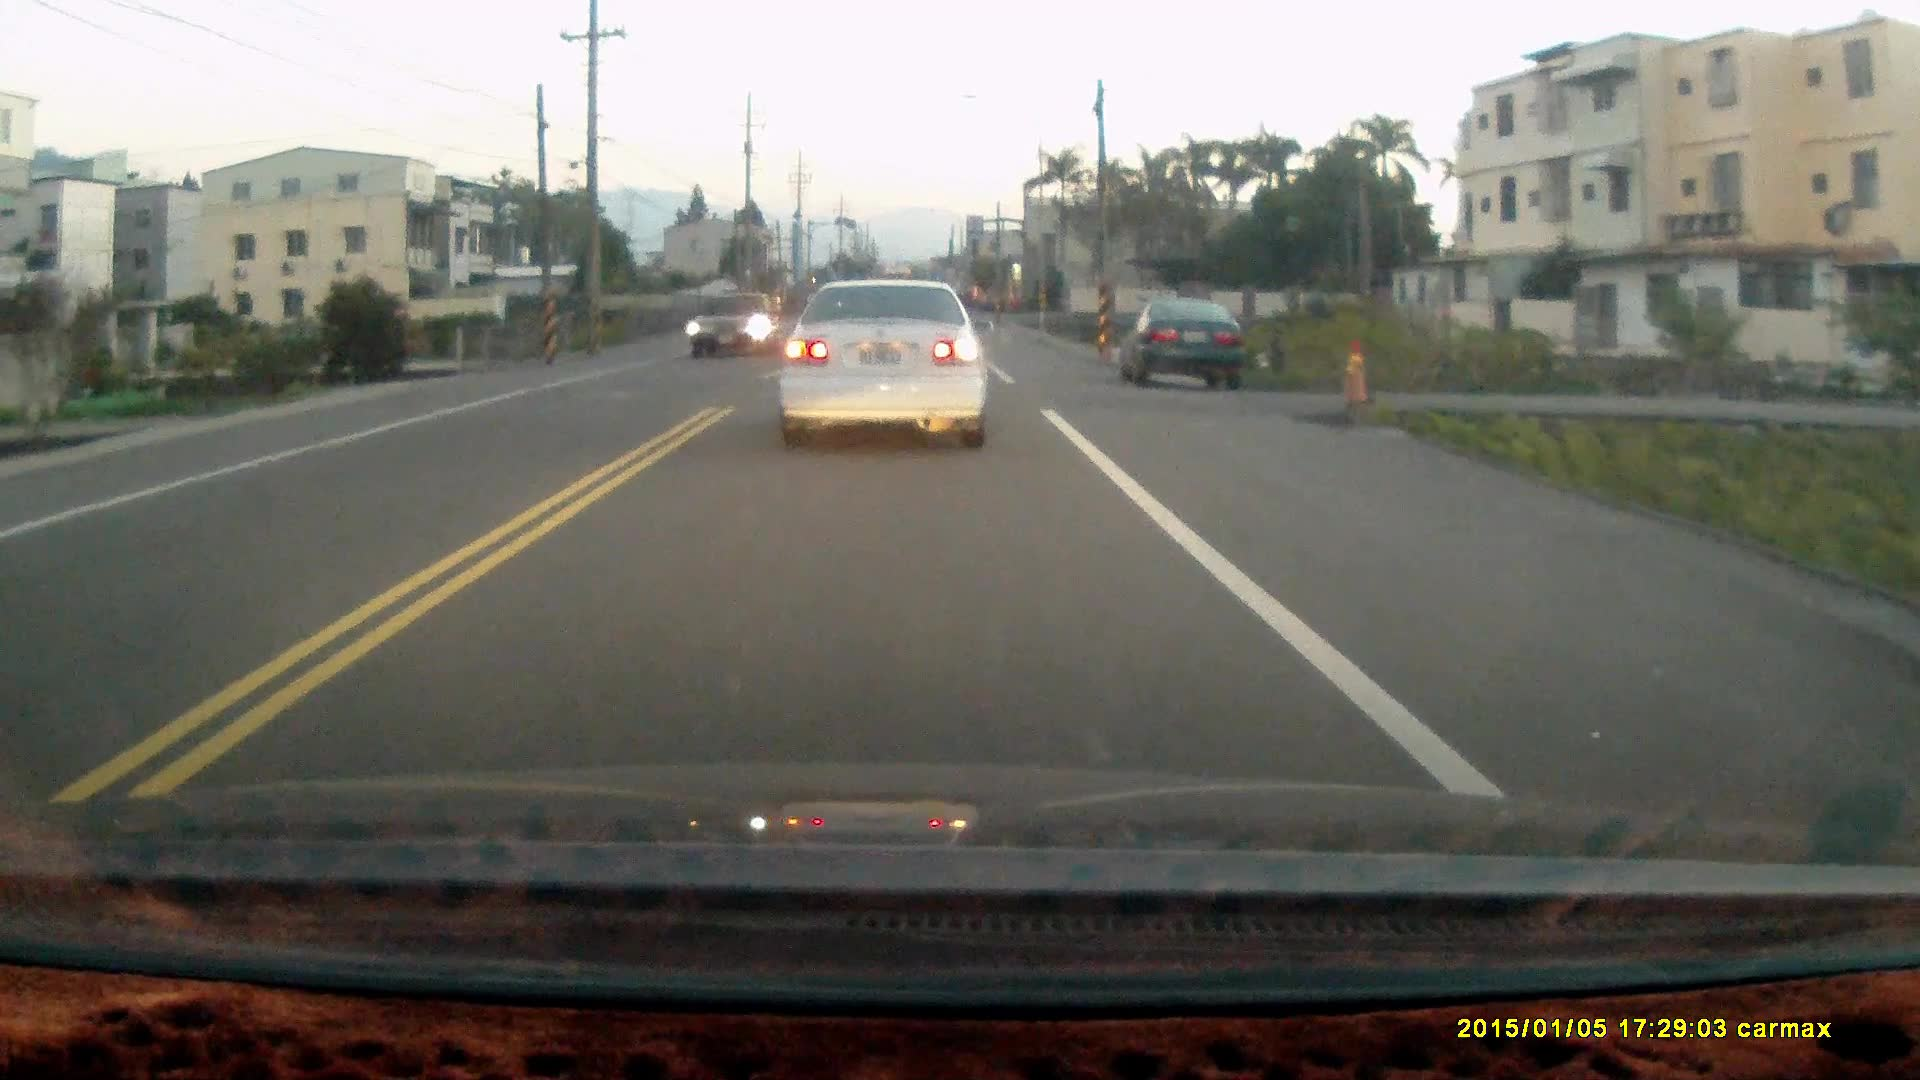pedestrian: (1266, 327, 1287, 377)
vehicle: (774, 279, 991, 457), (1130, 298, 1255, 397), (686, 288, 778, 360)
